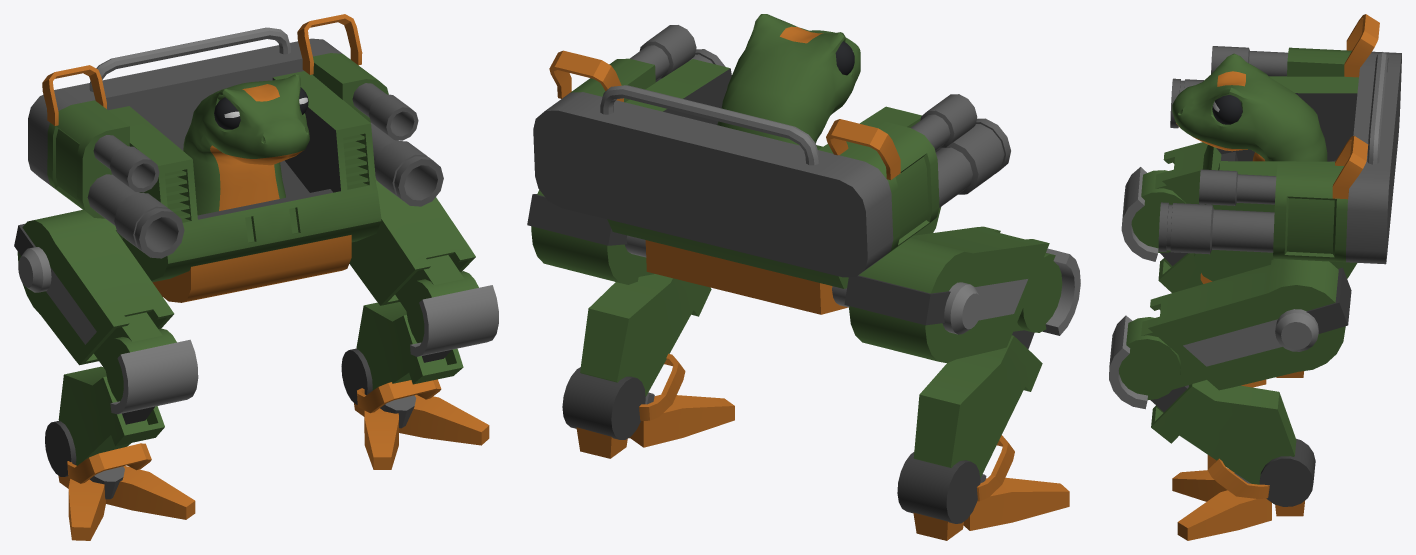
Rendered from mech_finn_the_frog.glb.
3 renders of one model, left to right at view 1: azimuth 30°, elevation 25°; view 2: azimuth 150°, elevation 25°; view 3: azimuth 270°, elevation 25°, orthographic. The views are drawn at different scales.
Visible parts, largest first — view 1: FinnTheFrog_Cube.001; view 2: FinnTheFrog_Cube.001; view 3: FinnTheFrog_Cube.001.
Boxes of the visible parts, x1,y1,x2,y2 form: FinnTheFrog_Cube.001: (14,14,498,540); FinnTheFrog_Cube.001: (527,14,1080,540); FinnTheFrog_Cube.001: (1109,14,1401,540).
Bounding box in the file's own units: 3.38 × 3.02 × 2.14.
Materials: 1 (1 with a texture image).
